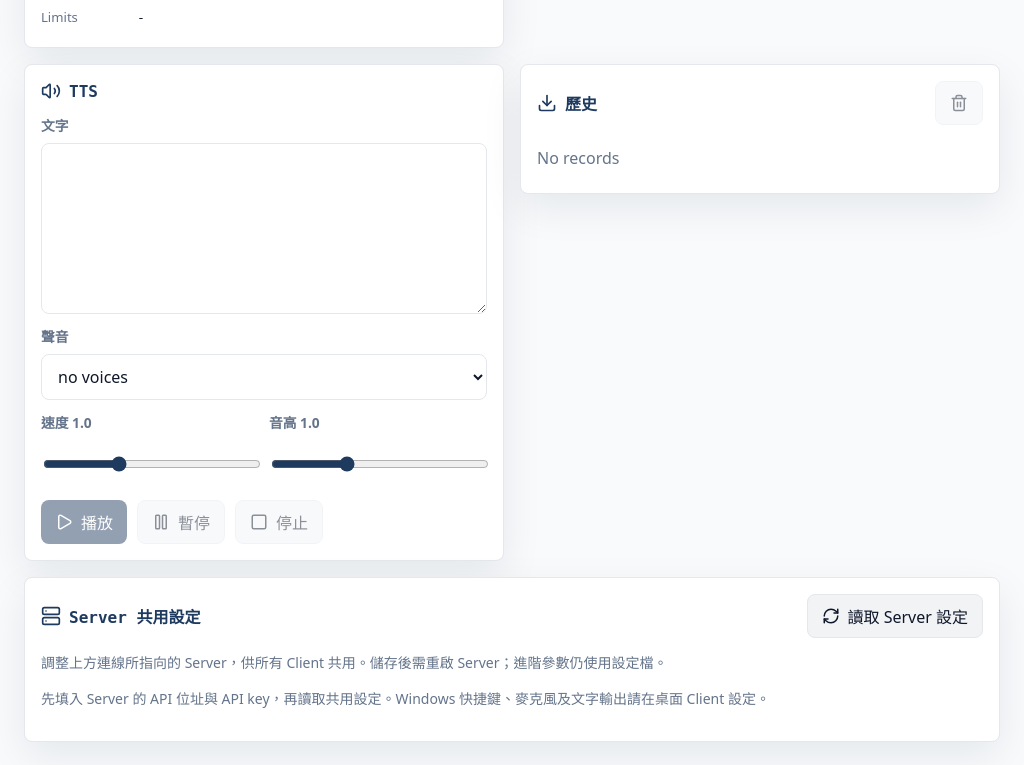
Test: App › finishes an in-flight write against its original root before requiring a reload
(page scrolled)
Click the button "讀取 Server 設定" at (895, 616), box [806,594,983,638]
(page scrolled)
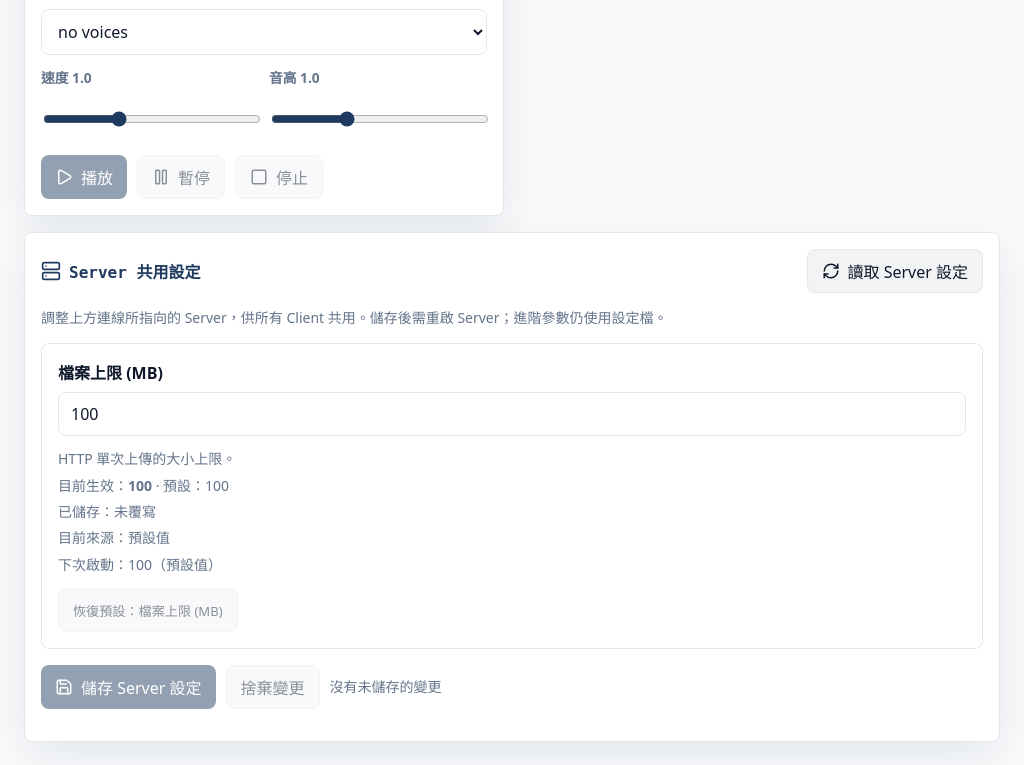
Replace the text in the number field labelled "檔案上限 (MB)" with "200" at (512, 414), box [58,392,966,436]
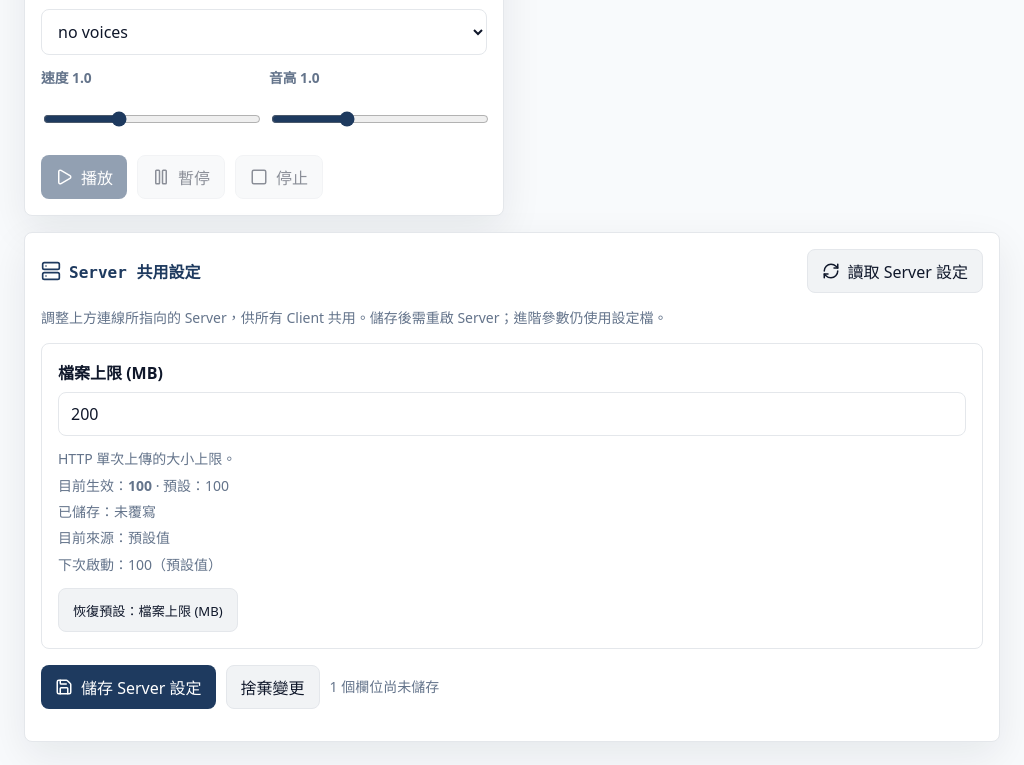
Click the button "儲存 Server 設定" at (128, 687), box [41,665,216,709]
(page scrolled)
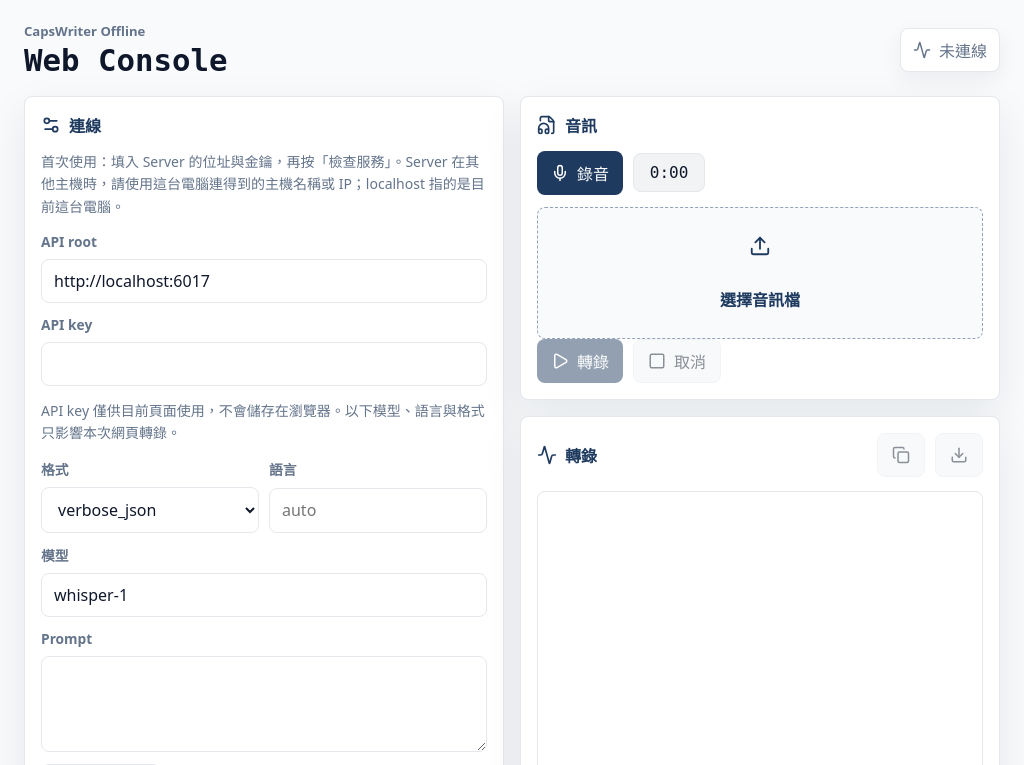
Replace the text in the field labelled "API root" with "http://other:6017" at (264, 281), box [41,259,487,303]
(page scrolled)
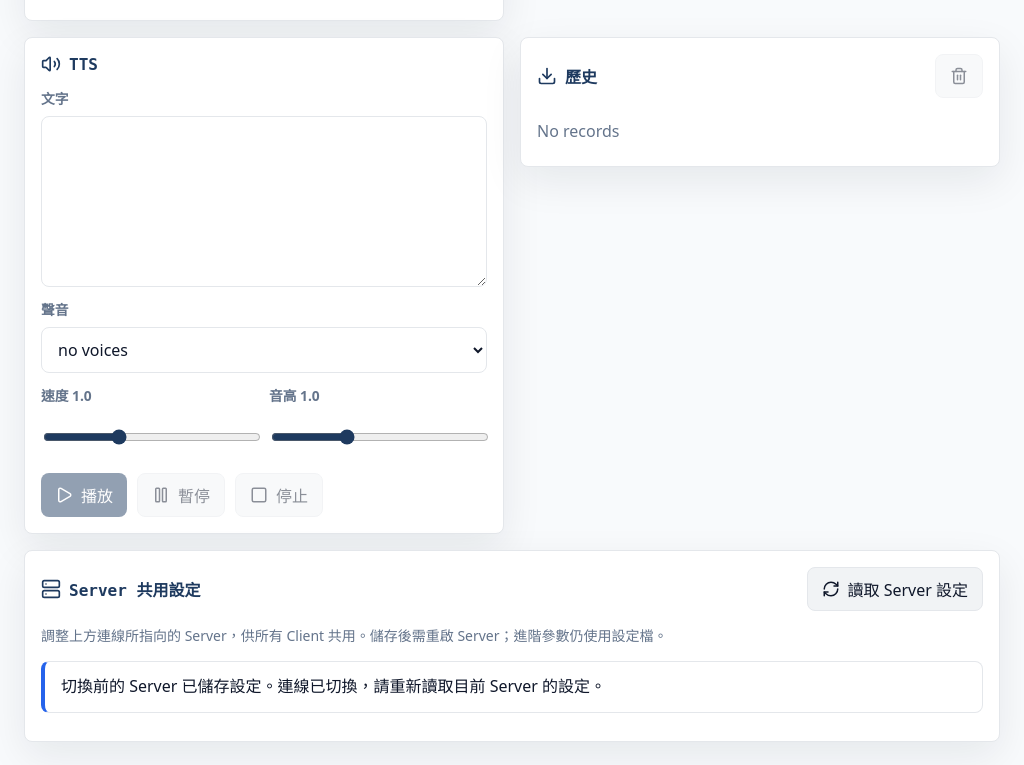
Check: the text "切換前的 Server 已儲存設定。連線已切換，請重新讀取目前 Server 的設定。" is shown, box [41,661,983,713]
